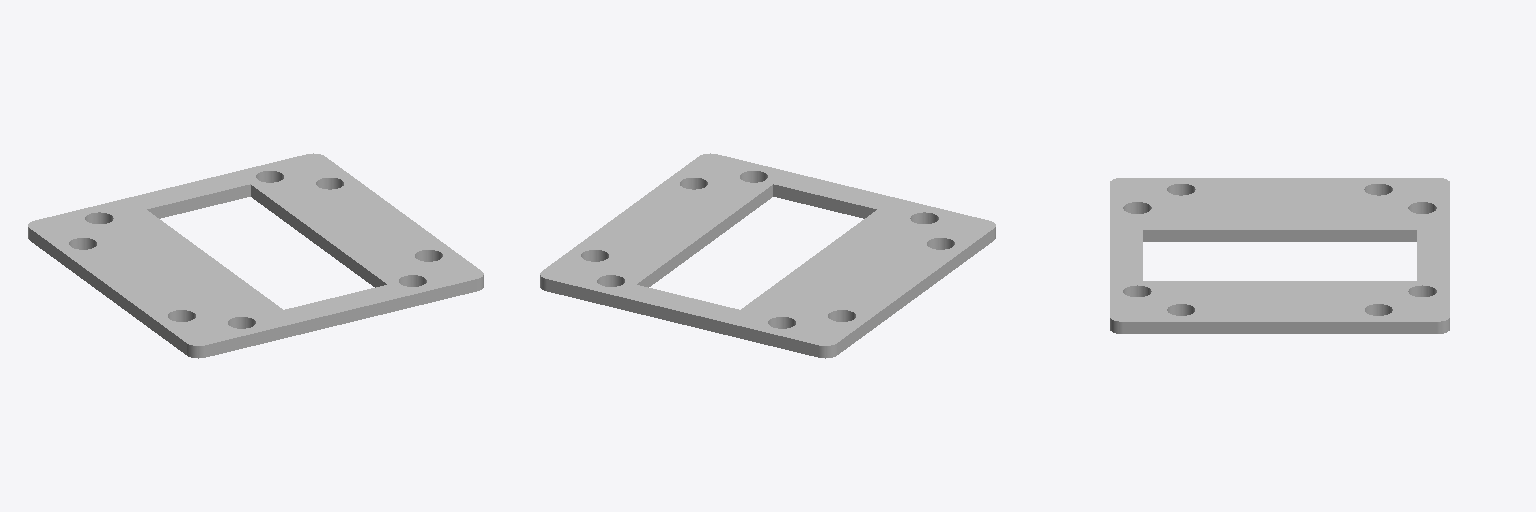
Rendered from V5_Outer Cover Top Open.obj.
3 renders of one model, left to right at view 1: azimuth 30°, elevation 25°; view 2: azimuth 150°, elevation 25°; view 3: azimuth 270°, elevation 25°, orthographic.
Parts seen in each view (by area): view 1: Solid1:51; view 2: Solid1:51; view 3: Solid1:51.
Boxes of the visible parts, x1,y1,x2,y2 form: Solid1:51: [28, 153, 483, 358]; Solid1:51: [540, 153, 995, 358]; Solid1:51: [1110, 178, 1449, 333].
Size of the model in its own units: 49.75 by 2 by 49.75.